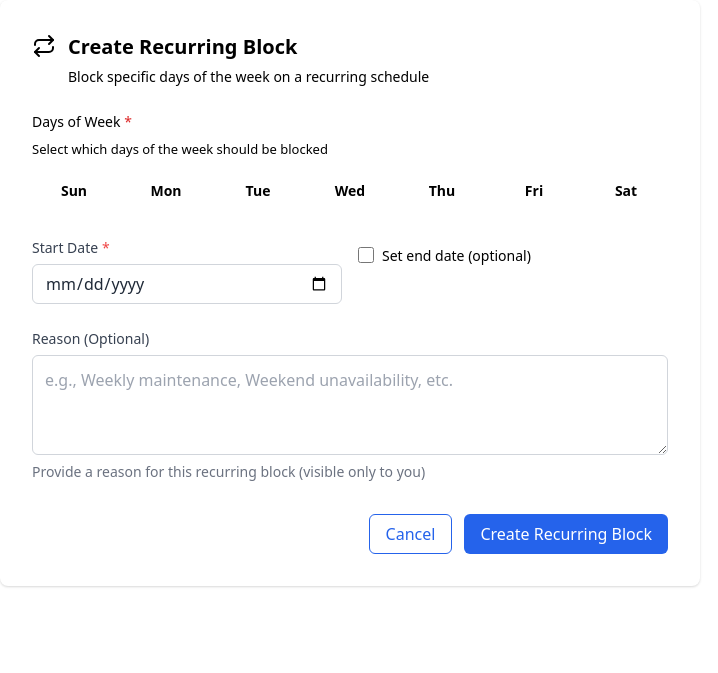
RecurringBlockForm › Create Mode › allows toggling end date field
Step 1. Click the checkbox labelled "Set end date (optional)" → [366, 255], box [358,247,374,263]
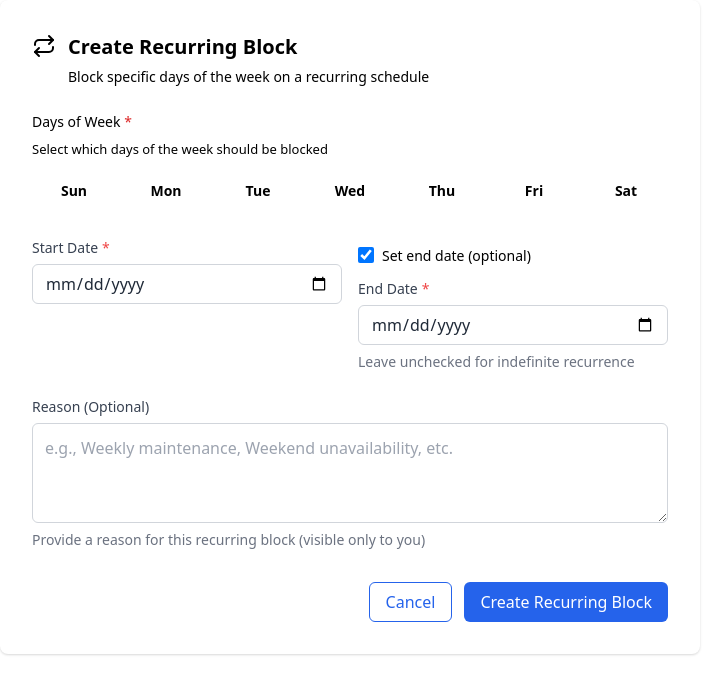
Now the checkbox labelled "Set end date (optional)" is checked, box [358,247,374,263]
Now the date field labelled "End Date *" is shown, box [358,304,668,344]
